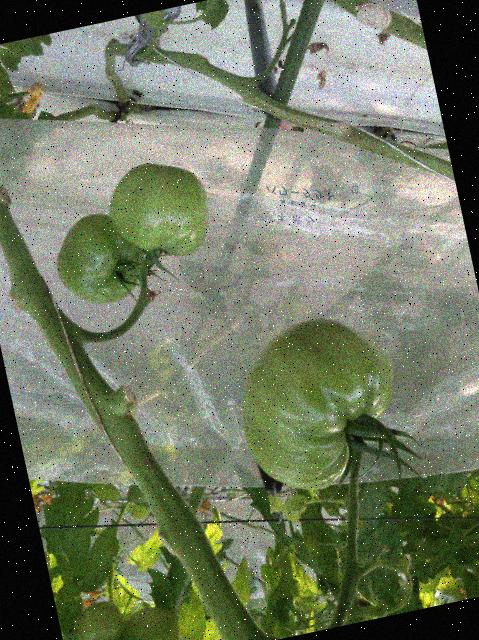b_green: (224, 305, 414, 502), (100, 152, 219, 269), (46, 204, 154, 312), (108, 601, 182, 640), (66, 597, 128, 640)
